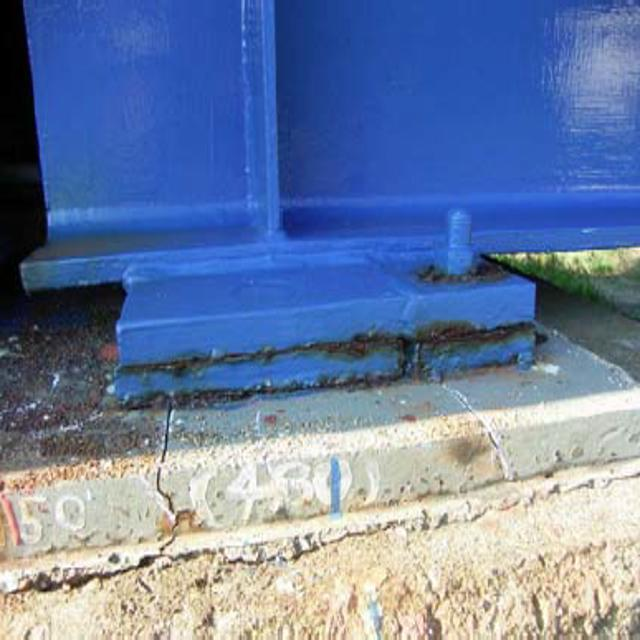corrosion: (136, 271, 558, 420)
